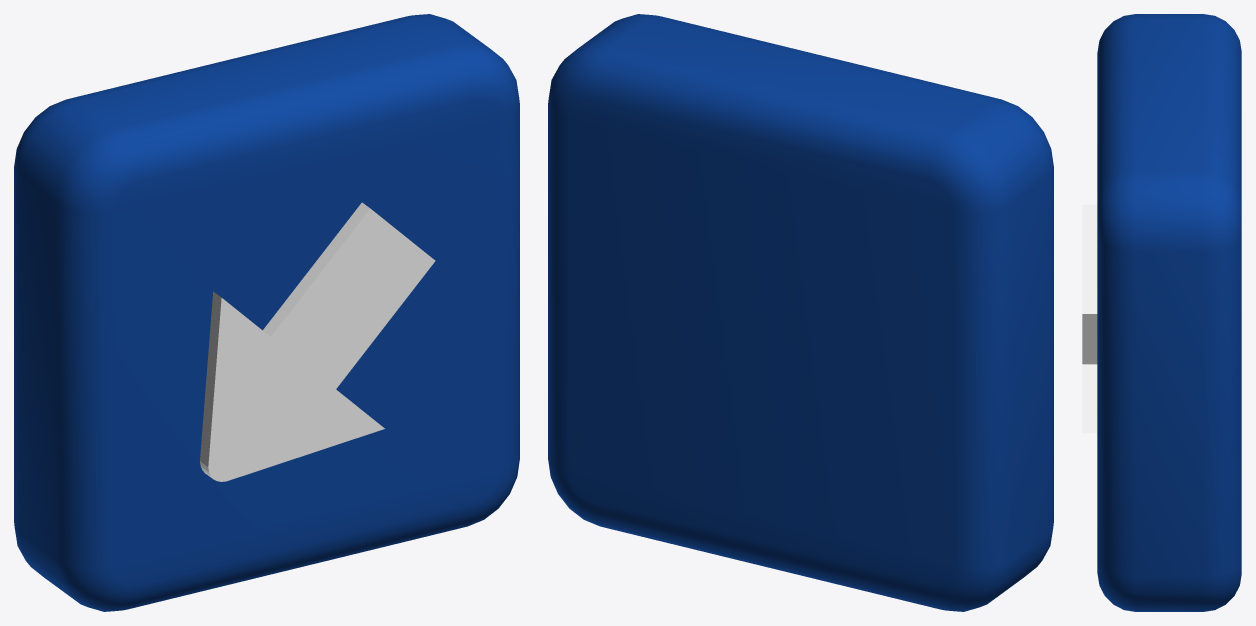
Rendered from down_left_arrow.glb.
The picture shows the model from 3 angles, left to right: view 1: azimuth 30°, elevation 25°; view 2: azimuth 150°, elevation 25°; view 3: azimuth 270°, elevation 25°; orthographic projection. The views are drawn at different scales.
Visible parts, largest first — view 1: Cube.6322; view 2: Cube.6322; view 3: Cube.6322.
Part boxes in pixels (<box>): Cube.6322: <box>14,14,519,611</box>; Cube.6322: <box>548,14,1053,611</box>; Cube.6322: <box>1082,14,1241,611</box>.
Size of the model in its own units: 2.2 by 2.2 by 0.73.
1 material, 1 textured.
